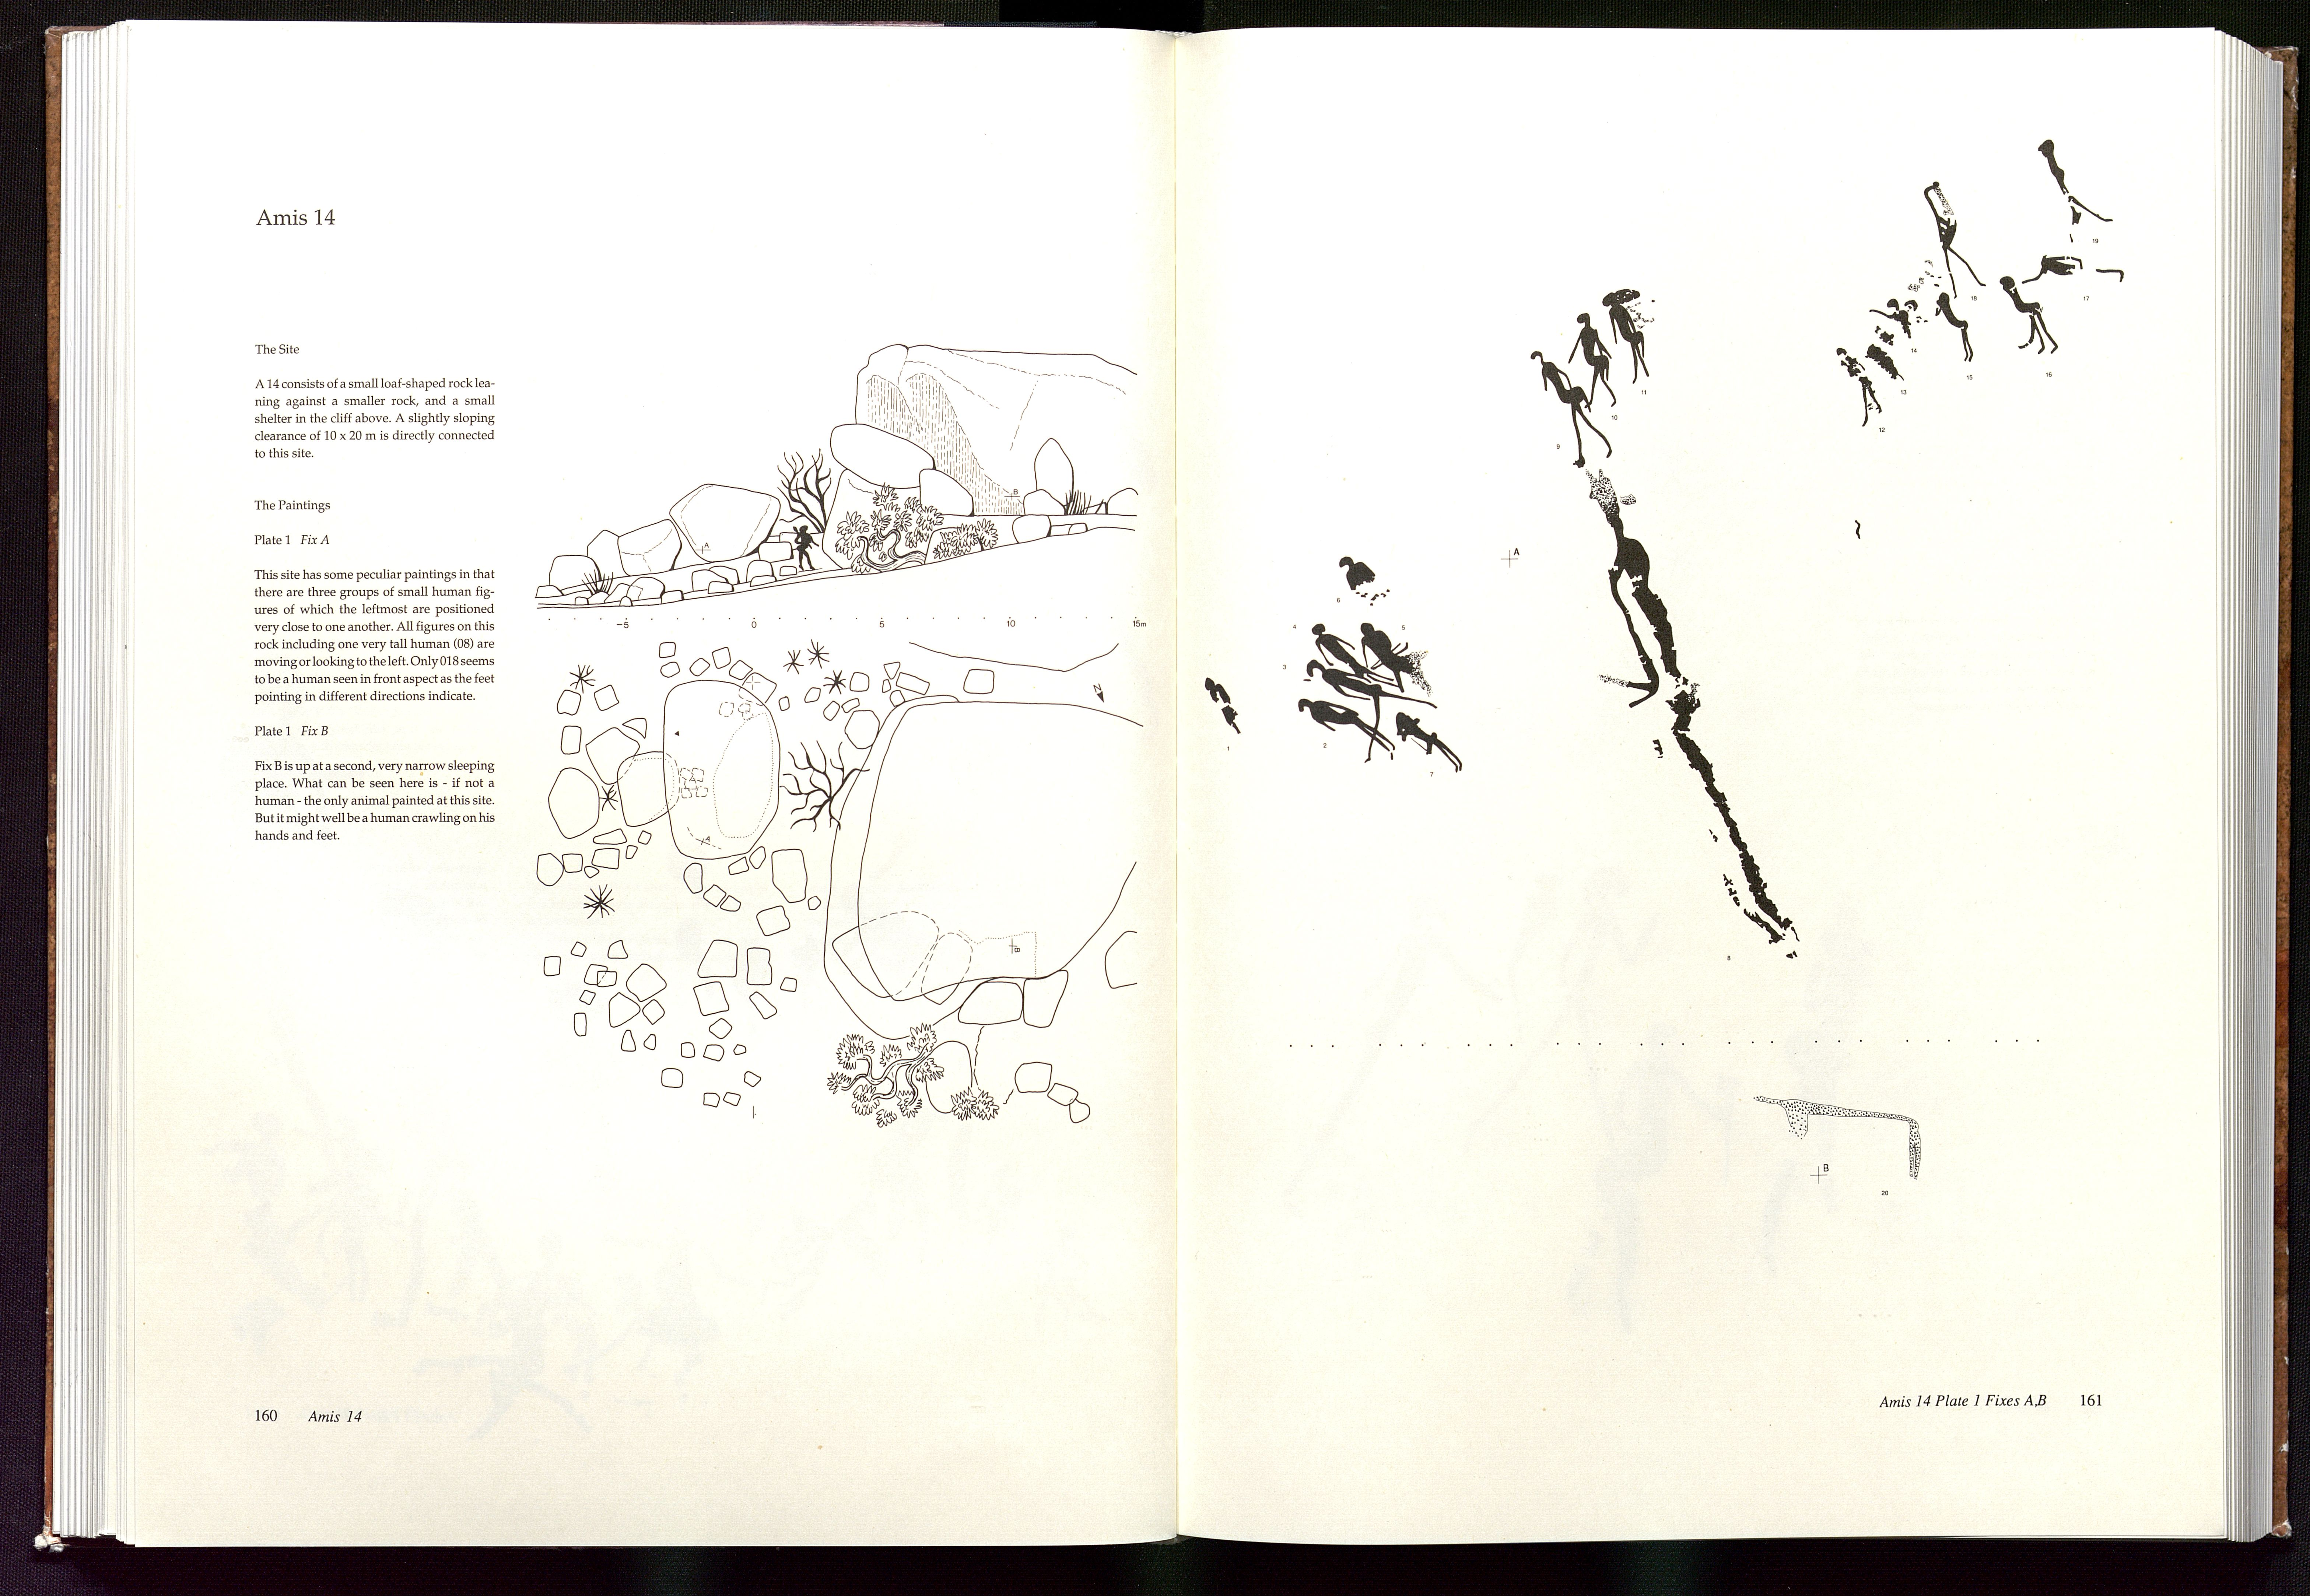human: (1522, 335, 1617, 477), (1303, 613, 1404, 708), (1816, 330, 1895, 441), (1387, 708, 1487, 787), (1289, 688, 1406, 755), (1598, 286, 1669, 392), (1355, 620, 1446, 703), (1993, 269, 2060, 379), (1566, 308, 1627, 418), (1927, 286, 1991, 379), (1335, 546, 1389, 600)
